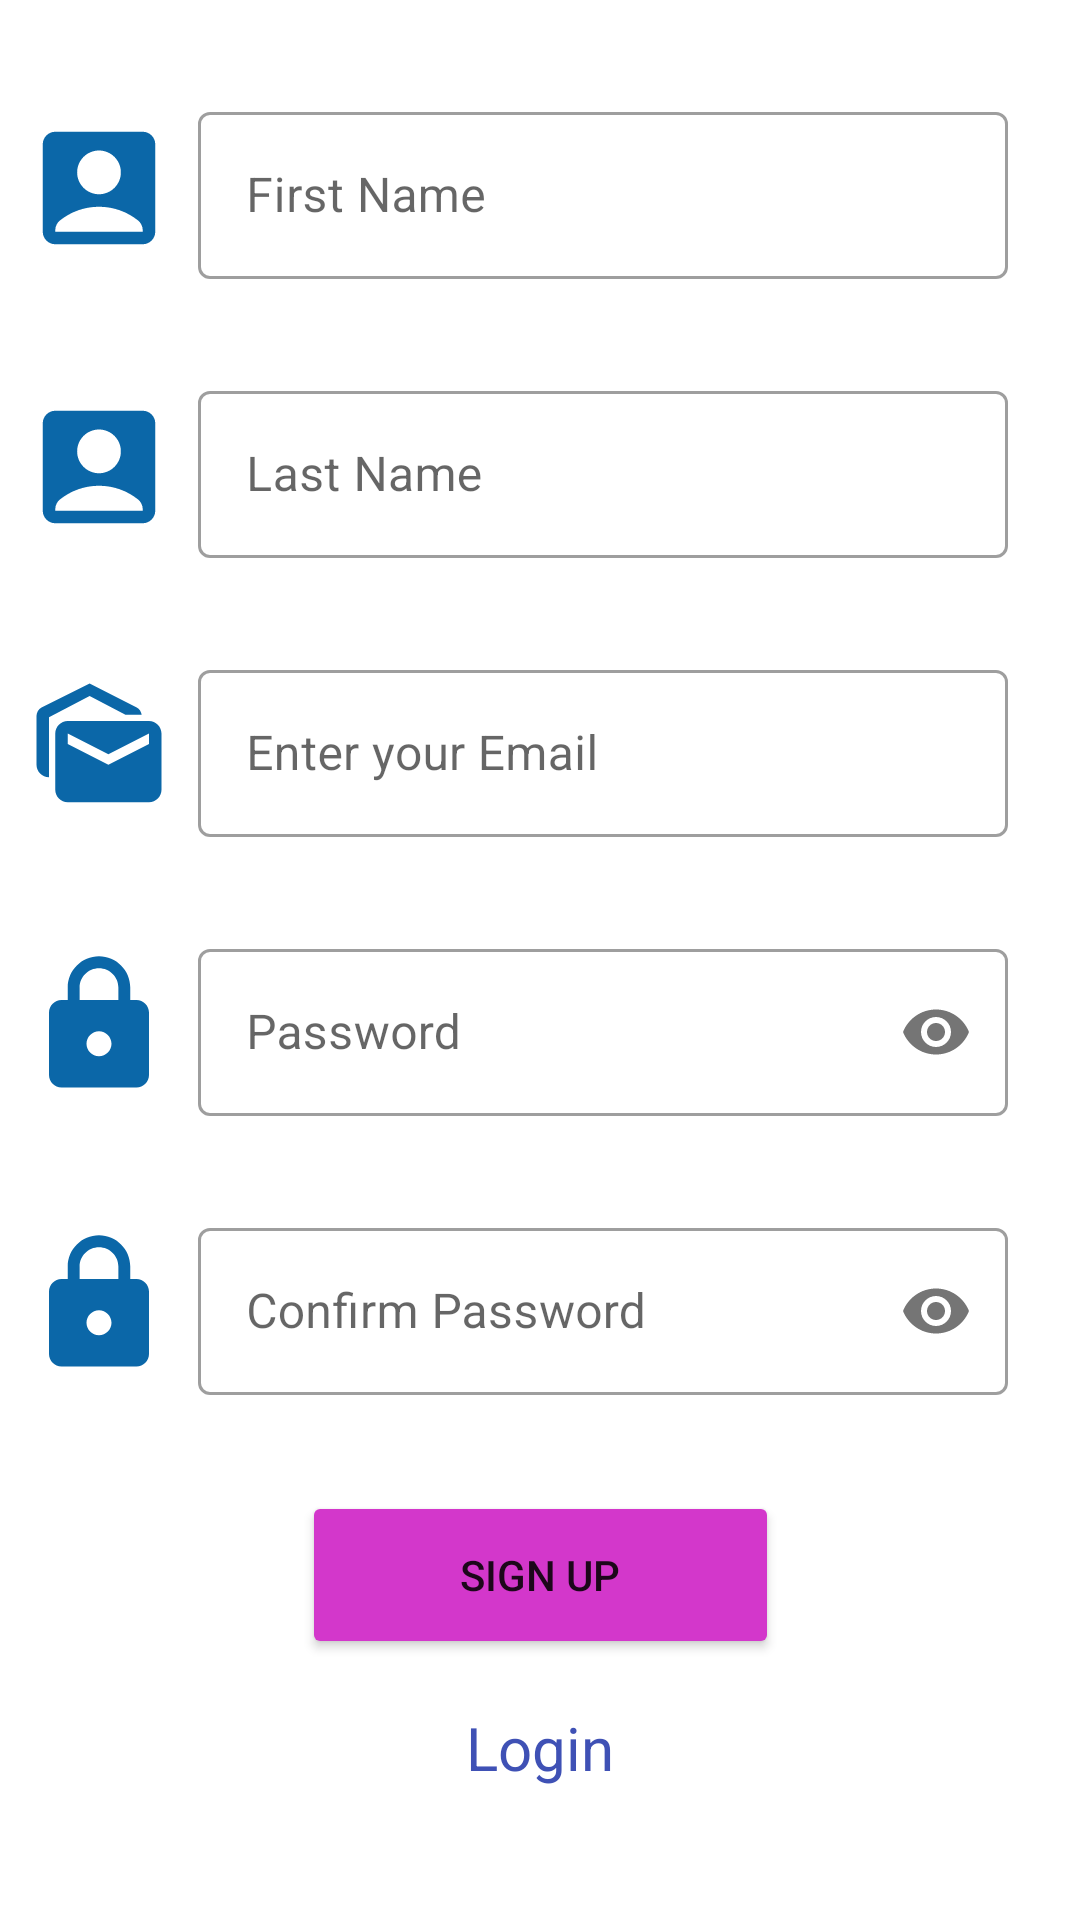

Where to tap for icons on this 1080px x 1920px app screen, as point (x, y):
account box: point (99, 188), point (99, 467)
mark as unread: point (99, 743)
